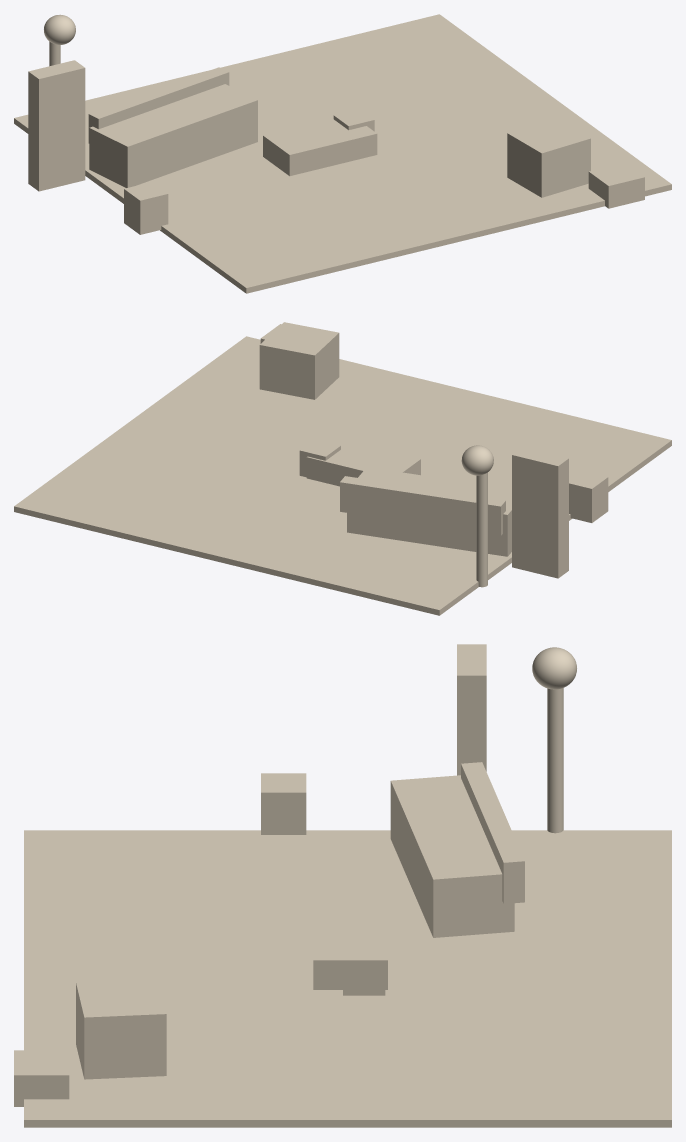
The model's file is scandi-living-room.gltf.
The picture shows the model from 3 angles, top to bottom: view 1: azimuth 30°, elevation 25°; view 2: azimuth 150°, elevation 25°; view 3: azimuth 270°, elevation 25°; orthographic projection. The views are drawn at different scales.
Parts seen in each view (by area): view 1: cube-1, cube-2, cube-10, cube-7, cube-4, cube-3, cube-9, cube-8, sphere-6, cube-12; view 2: cube-1, cube-10, cube-3, cube-2, cube-7, cube-4, cube-9, cylinder-5, sphere-6, cube-12; view 3: cube-1, cube-2, cube-7, cube-4, cube-3, cube-10, cube-8, cube-9, cylinder-5, cube-12, sphere-6.
Part boxes in pixels (left/top/right/bottom): cube-1: left=14, top=14, right=671, bottom=293; cube-2: left=89, top=84, right=257, bottom=187; cube-10: left=28, top=60, right=85, bottom=191; cube-7: left=507, top=118, right=590, bottom=197; cube-4: left=263, top=118, right=377, bottom=176; cube-3: left=88, top=67, right=229, bottom=143; cube-9: left=124, top=182, right=168, bottom=234; cube-8: left=588, top=163, right=644, bottom=208; sphere-6: left=44, top=14, right=75, bottom=44; cube-12: left=333, top=109, right=374, bottom=131; cube-1: left=14, top=336, right=671, bottom=615; cube-10: left=512, top=447, right=568, bottom=578; cube-3: left=340, top=476, right=505, bottom=535; cube-2: left=347, top=467, right=511, bottom=556; cube-7: left=259, top=322, right=339, bottom=399; cube-4: left=306, top=437, right=420, bottom=486; cube-9: left=569, top=470, right=608, bottom=522; cylinder-5: left=476, top=472, right=487, bottom=587; sphere-6: left=461, top=445, right=493, bottom=475; cube-12: left=299, top=439, right=340, bottom=477; cube-1: left=24, top=830, right=671, bottom=1127; cube-2: left=390, top=775, right=514, bottom=937; cube-7: left=76, top=978, right=166, bottom=1079; cube-4: left=313, top=900, right=387, bottom=989; cube-3: left=461, top=762, right=524, bottom=903; cube-10: left=457, top=644, right=486, bottom=775; cube-8: left=14, top=1050, right=69, bottom=1106; cube-9: left=261, top=773, right=306, bottom=834; cylinder-5: left=547, top=688, right=563, bottom=833; cube-12: left=343, top=942, right=385, bottom=995; sphere-6: left=532, top=647, right=576, bottom=689.
Bounding box in the file's own units: 8.69 × 2.39 × 7.44.
